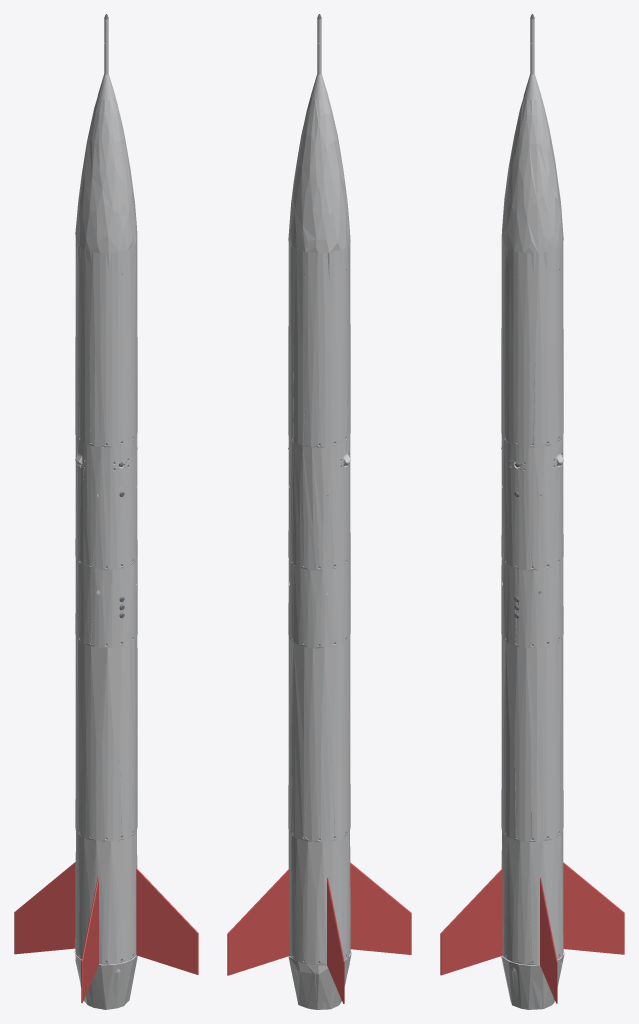
Rendered from hemera-v1.glb.
3 renders of one model, left to right at view 1: azimuth 30°, elevation 25°; view 2: azimuth 150°, elevation 25°; view 3: azimuth 330°, elevation 25°, orthographic.
Parts seen in each view (by area): view 1: geometry_0, geometry_2; view 2: geometry_0, geometry_2; view 3: geometry_0, geometry_2.
Boxes of the visible parts, left/top/right/bottom form: geometry_0: left=74, top=19, right=137, bottom=1009; geometry_2: left=14, top=862, right=198, bottom=1003; geometry_0: left=288, top=19, right=351, bottom=1009; geometry_2: left=227, top=862, right=411, bottom=1003; geometry_0: left=501, top=19, right=564, bottom=1009; geometry_2: left=440, top=862, right=624, bottom=1003.
Size of the model in its own units: 0.3776 by 3.05 by 0.3776.
